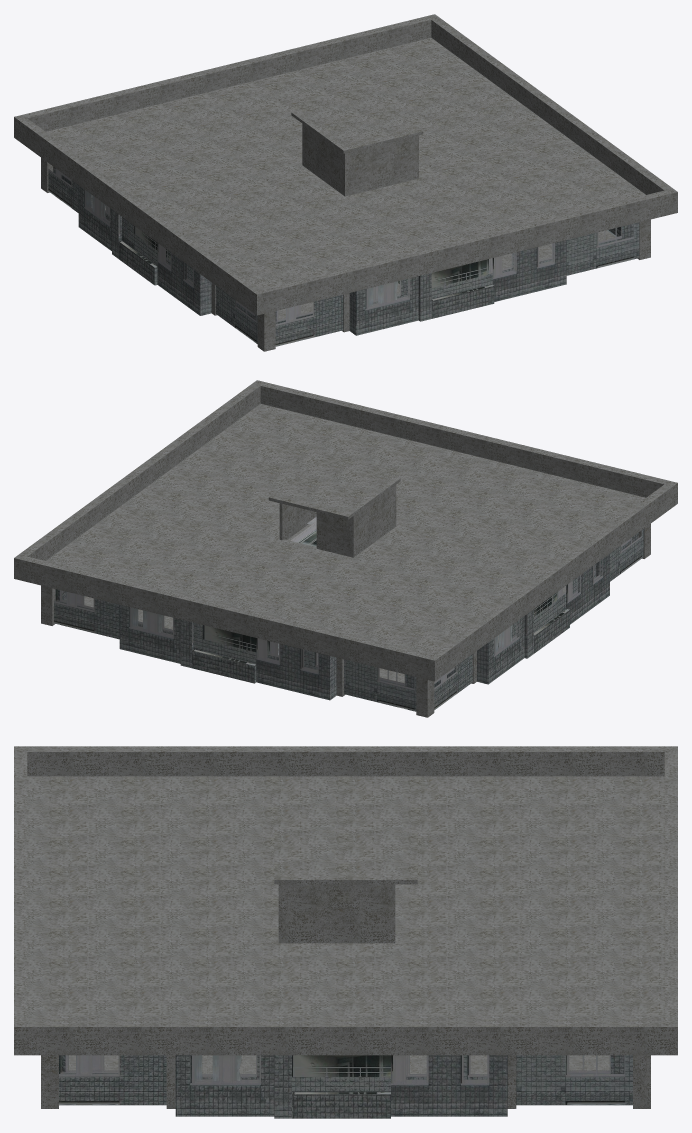
File: BagSS07top_200.fbx
The picture shows the model from 3 angles, top to bottom: view 1: azimuth 30°, elevation 25°; view 2: azimuth 150°, elevation 25°; view 3: azimuth 270°, elevation 25°; orthographic projection. The views are drawn at different scales.
Parts seen in each view (by area): view 1: topRoof300, topMain300, Box03, topFloors300; view 2: topRoof300, topMain300, Box03, topFloors300; view 3: topRoof300, topMain300, Box03, topFloors300.
Part boxes in pixels (x1=…): topRoof300: x1=14, y1=14, x2=677, y2=351; topMain300: x1=53, y1=167, x2=633, y2=335; Box03: x1=48, y1=168, x2=639, y2=346; topFloors300: x1=105, y1=206, x2=615, y2=319; topRoof300: x1=14, y1=380, x2=677, y2=717; topMain300: x1=55, y1=533, x2=638, y2=711; Box03: x1=54, y1=517, x2=643, y2=711; topFloors300: x1=84, y1=524, x2=565, y2=683; topRoof300: x1=14, y1=746, x2=677, y2=1108; topMain300: x1=59, y1=1055, x2=632, y2=1118; Box03: x1=59, y1=1055, x2=632, y2=1104; topFloors300: x1=69, y1=1055, x2=609, y2=1073.
Bounding box in the file's own units: 35.52 × 7.92 × 35.52.
